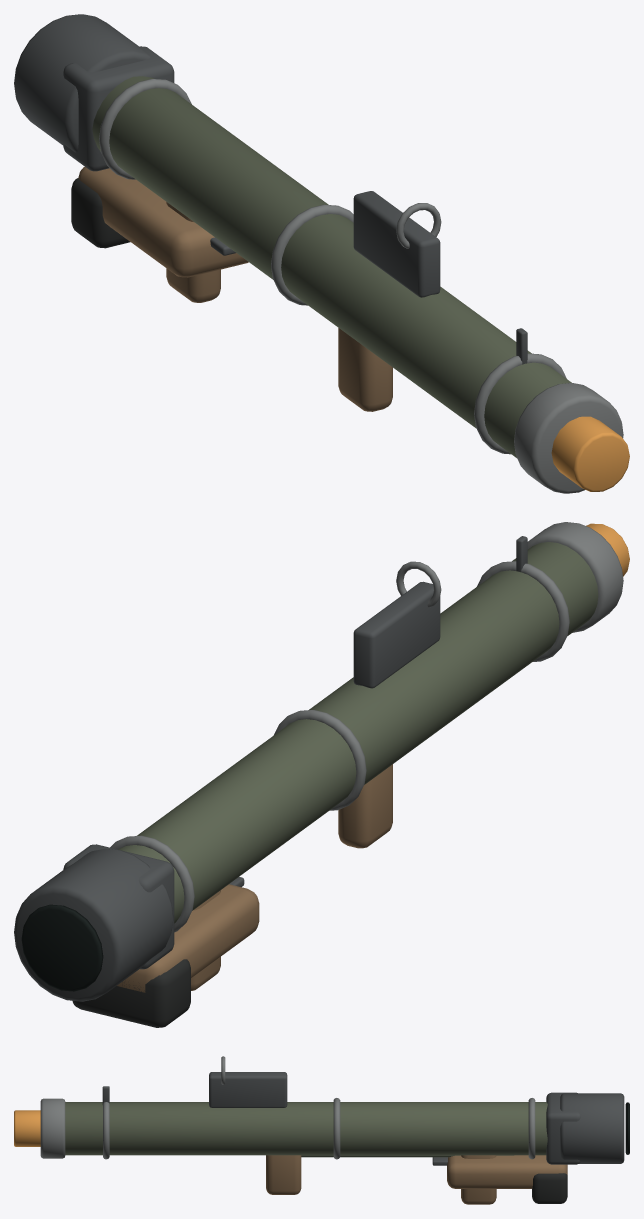
Rendered from bazooka.glb.
3 views of the same model, one above another, from view 1: azimuth 30°, elevation 25°; view 2: azimuth 150°, elevation 25°; view 3: azimuth 270°, elevation 25° (orthographic). The views are drawn at different scales.
Parts seen in each view (by area): view 1: Launch tube, RecoilAssembly_Weapon_steel, BarrelPivot_Rifle_wood, RecoilAssembly_Weapon_edge, BarrelPivot_Weapon_steel, Rocket nose, Shoulder pad, Sight ring; view 2: Launch tube, RecoilAssembly_Weapon_steel, BarrelPivot_Rifle_wood, RecoilAssembly_Weapon_edge, BarrelPivot_Weapon_steel, Venturi bore, Shoulder pad, Sight ring, Rocket nose; view 3: Launch tube, RecoilAssembly_Weapon_steel, BarrelPivot_Rifle_wood, BarrelPivot_Weapon_steel, RecoilAssembly_Weapon_edge, Shoulder pad, Rocket nose, Sling, Venturi bore.
Boxes of the visible parts, box(x1,y1,x2,y2) form: Launch tube: box(92, 76, 571, 457); RecoilAssembly_Weapon_steel: box(14, 14, 174, 171); BarrelPivot_Rifle_wood: box(78, 167, 392, 411); RecoilAssembly_Weapon_edge: box(99, 79, 623, 493); BarrelPivot_Weapon_steel: box(210, 191, 527, 364); Rocket nose: box(551, 416, 629, 491); Shoulder pad: box(71, 178, 130, 248); Sight ring: box(396, 203, 441, 248); Launch tube: box(118, 542, 598, 923); RecoilAssembly_Weapon_steel: box(14, 844, 174, 1001); BarrelPivot_Rifle_wood: box(117, 764, 392, 992); RecoilAssembly_Weapon_edge: box(110, 522, 623, 932); BarrelPivot_Weapon_steel: box(229, 536, 527, 887); Venturi bore: box(21, 904, 103, 991); Shoulder pad: box(72, 959, 190, 1027); Sight ring: box(396, 561, 441, 607); Rocket nose: box(586, 523, 629, 576); Launch tube: box(65, 1102, 547, 1155); RecoilAssembly_Weapon_steel: box(546, 1092, 624, 1164); BarrelPivot_Rifle_wood: box(266, 1155, 567, 1204); BarrelPivot_Weapon_steel: box(102, 1072, 447, 1165); RecoilAssembly_Weapon_edge: box(40, 1098, 535, 1159); Shoulder pad: box(532, 1173, 567, 1203); Rocket nose: box(14, 1110, 40, 1146); Sling: box(301, 1155, 513, 1157); Venturi bore: box(625, 1102, 629, 1154).
Size of the model in its own units: 0.2 by 0.451 by 1.74.
